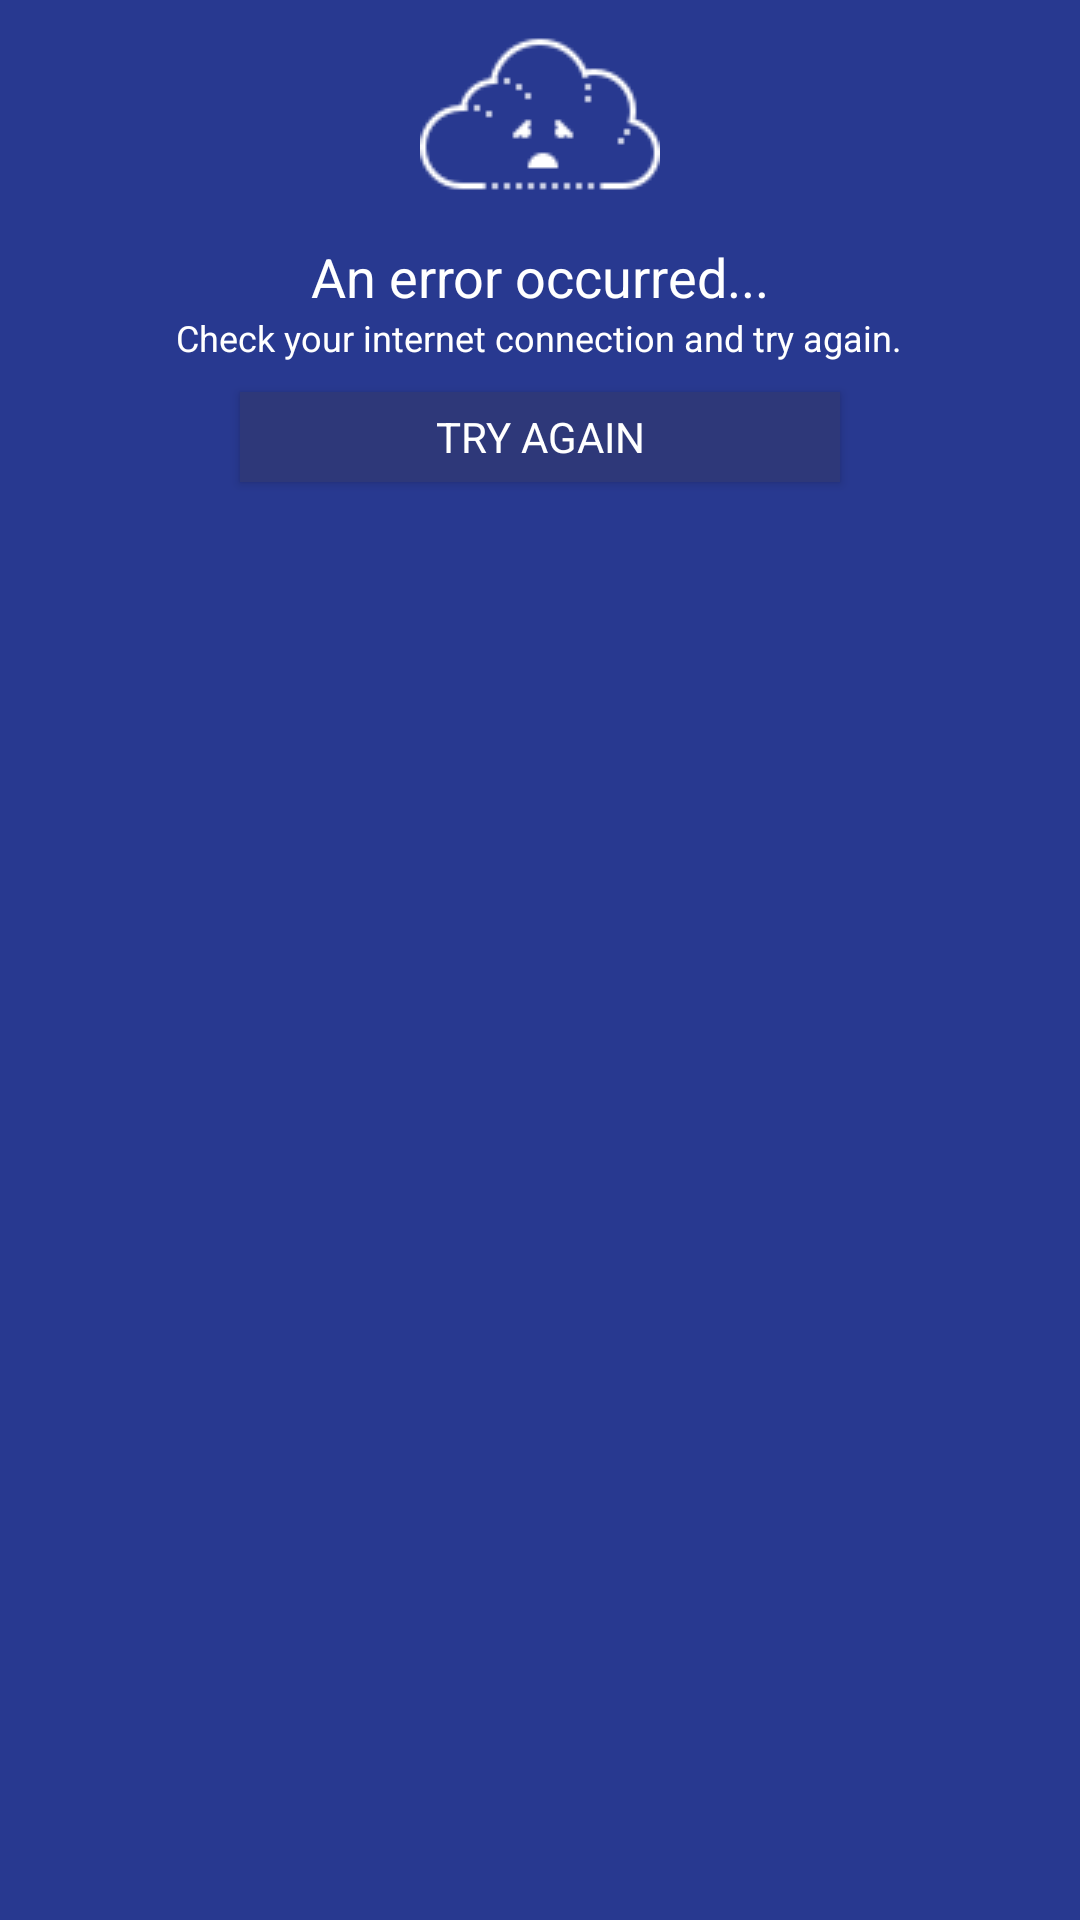

Named icons in this screenshot (1080px x 1920px) and their bounding boxes, (x1, y1, x2, y2):
sadcloud: (420, 38, 660, 190)
